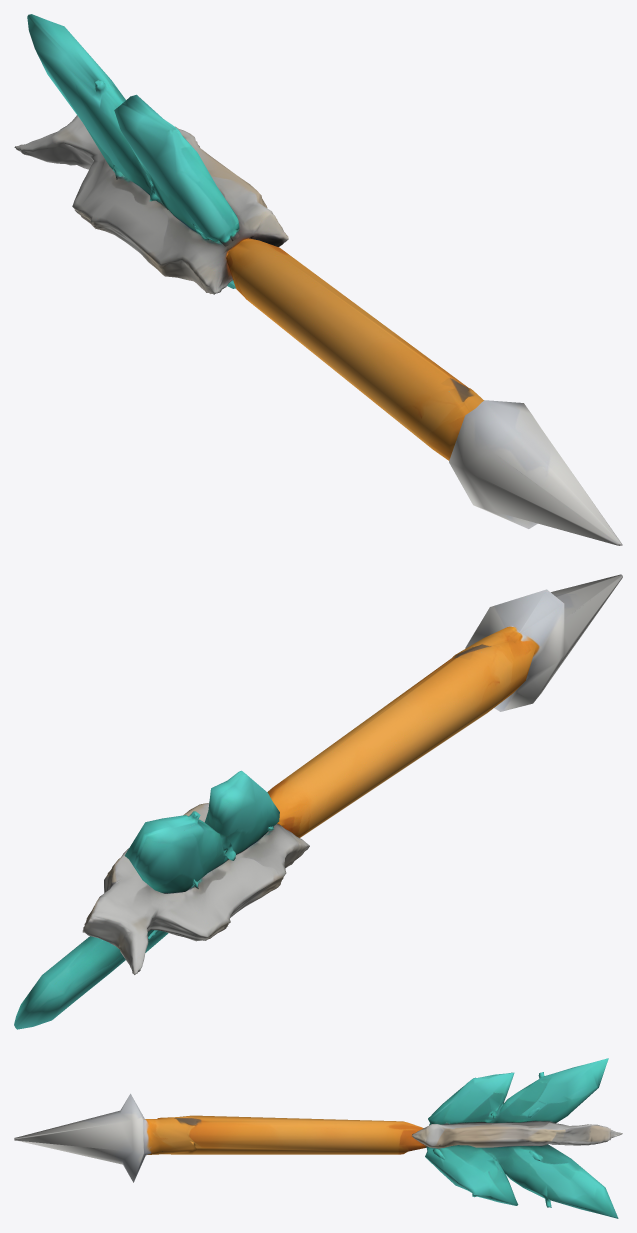
Rendered from arrow.glb.
The picture shows the model from 3 angles, top to bottom: view 1: azimuth 30°, elevation 25°; view 2: azimuth 150°, elevation 25°; view 3: azimuth 270°, elevation 25°; orthographic projection. The views are drawn at different scales.
Parts seen in each view (by area): view 1: tripo_node_77a3eb3a-fdb2-4331-a1b9-ff61eada8813; view 2: tripo_node_77a3eb3a-fdb2-4331-a1b9-ff61eada8813; view 3: tripo_node_77a3eb3a-fdb2-4331-a1b9-ff61eada8813.
Part boxes in pixels (left/top/right/bottom): tripo_node_77a3eb3a-fdb2-4331-a1b9-ff61eada8813: left=14, top=14, right=622, bottom=545; tripo_node_77a3eb3a-fdb2-4331-a1b9-ff61eada8813: left=14, top=574, right=622, bottom=1029; tripo_node_77a3eb3a-fdb2-4331-a1b9-ff61eada8813: left=14, top=1058, right=622, bottom=1218.
Bounding box in the file's own units: 0.1015 × 0.1496 × 0.65.
1 material, 1 textured.
